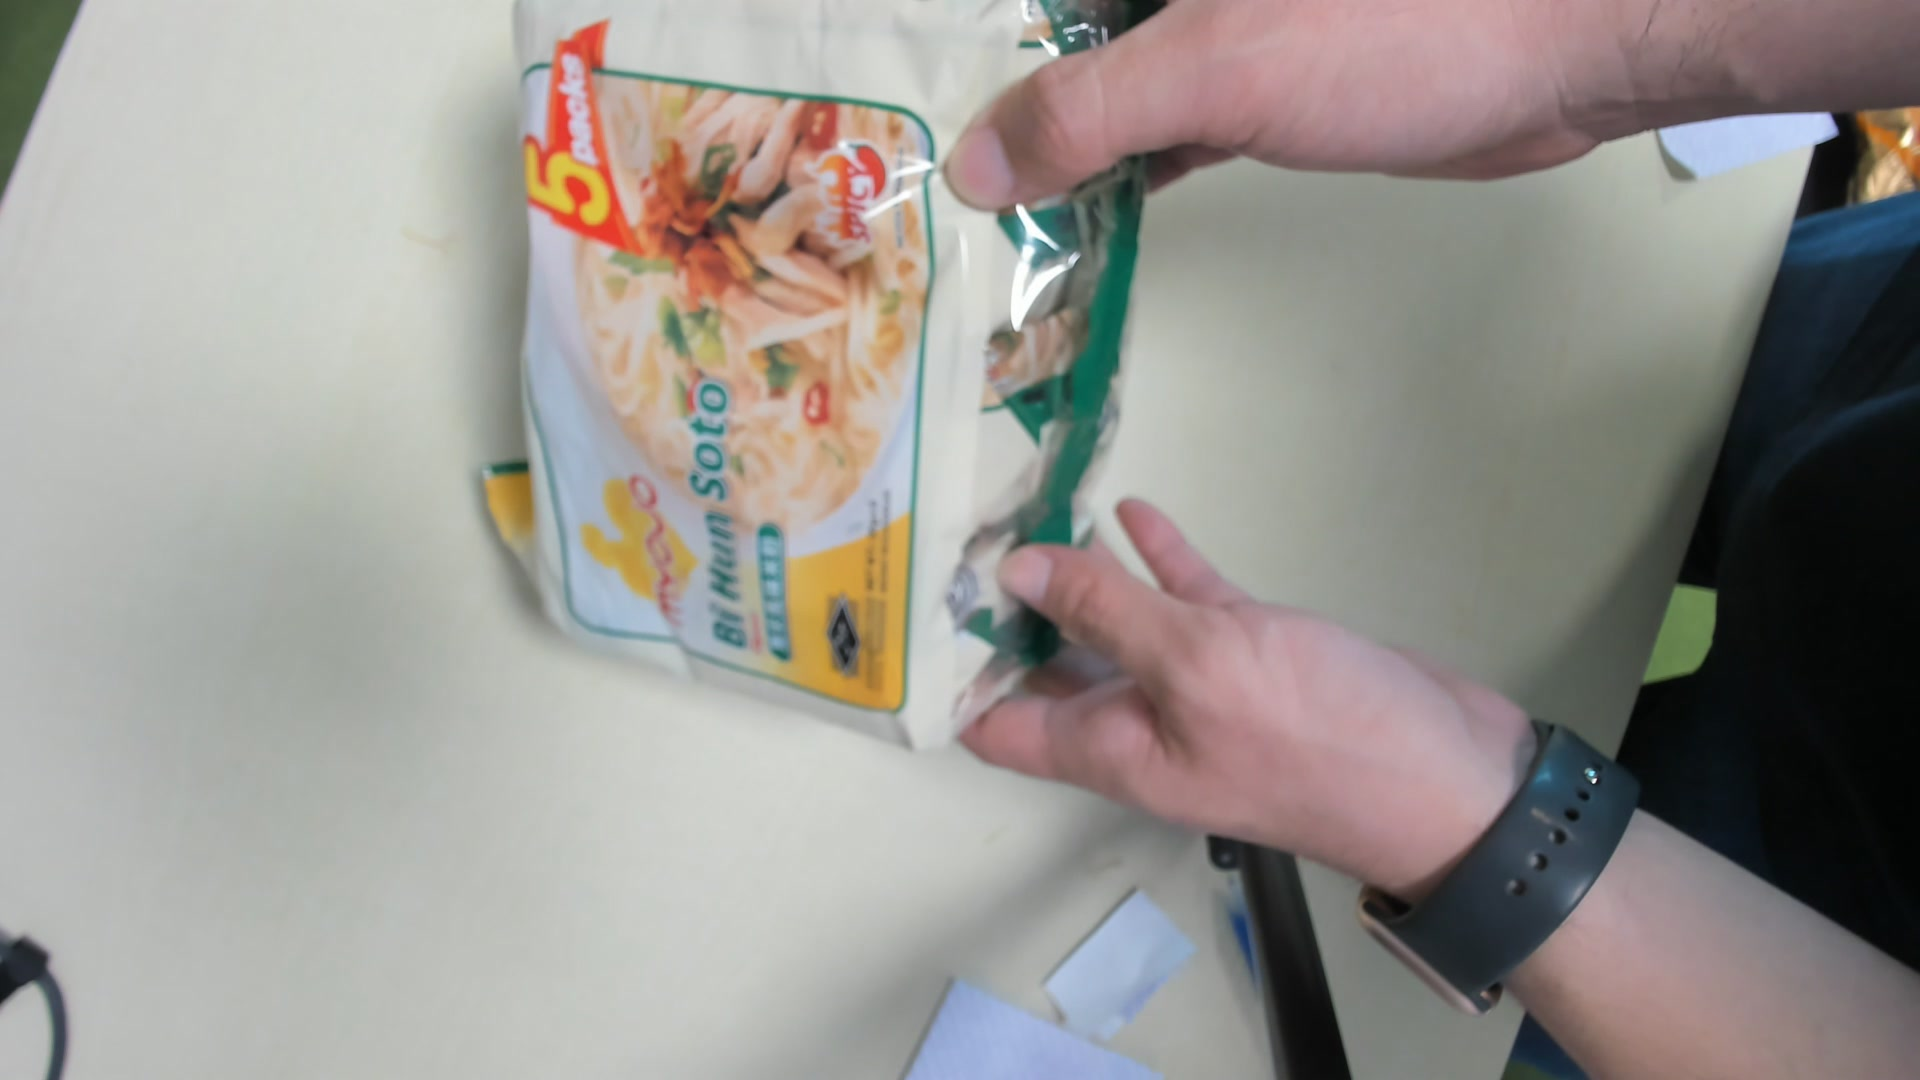OtherNoodles_400-499g_Halal_NonHealthy: (495, 7, 1127, 731)
